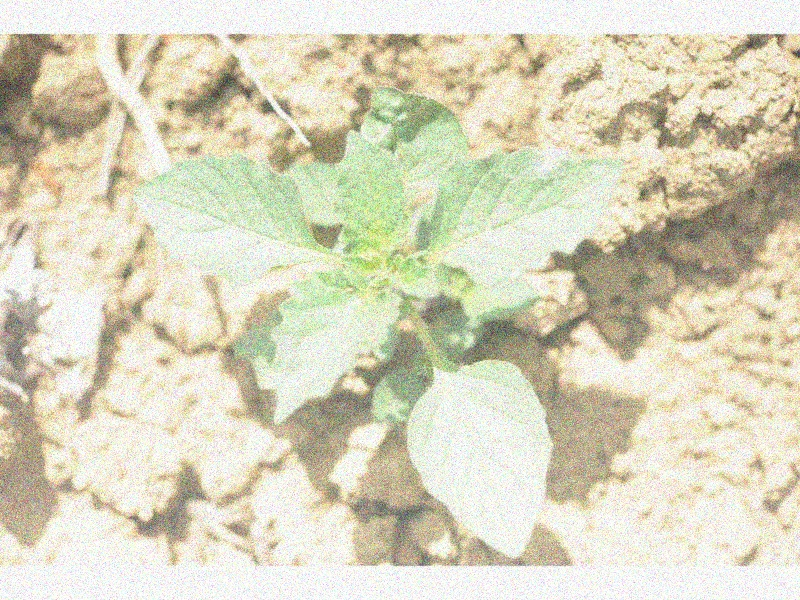nightshade: (131, 87, 627, 558)
